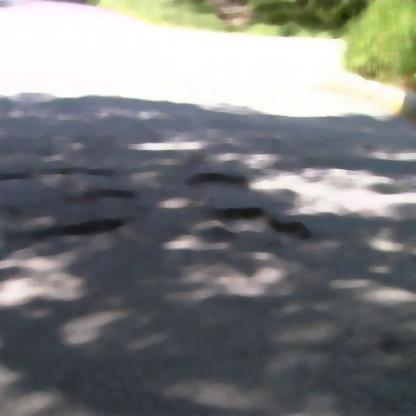Potholes: (188, 160, 246, 204)
